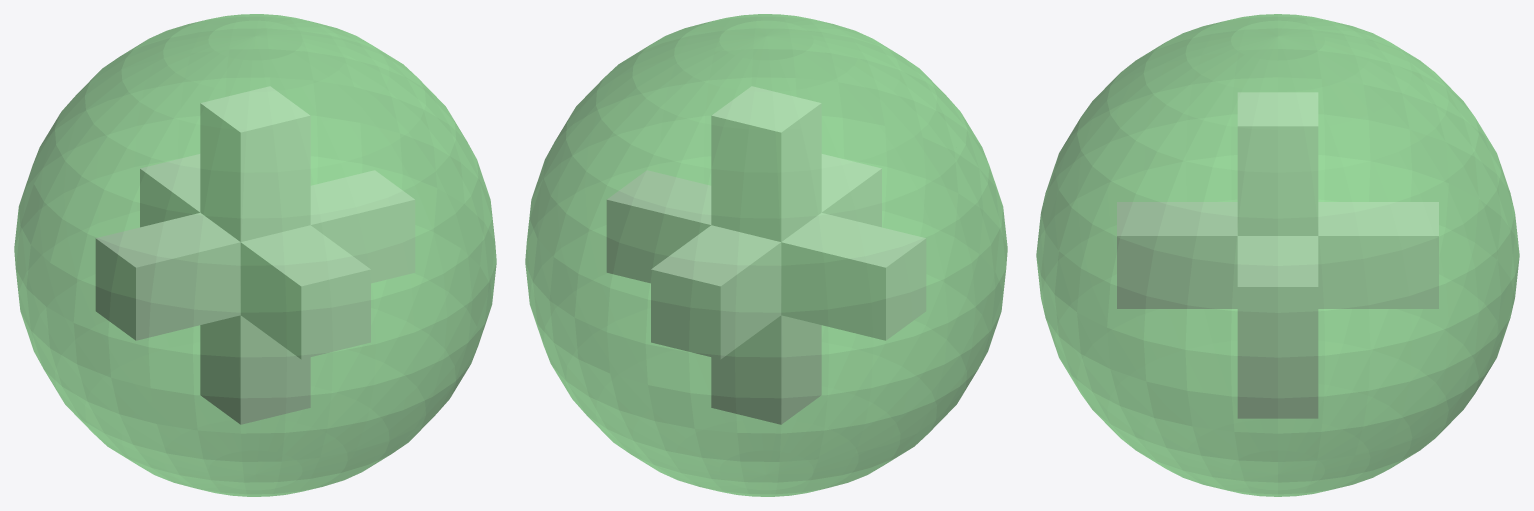
The model's file is healthpickup.fbx.
The picture shows the model from 3 angles, left to right: view 1: azimuth 30°, elevation 25°; view 2: azimuth 150°, elevation 25°; view 3: azimuth 270°, elevation 25°; orthographic projection.
Parts seen in each view (by area): view 1: Sphere, Plus; view 2: Sphere, Plus; view 3: Sphere, Plus.
Part boxes in pixels (<box>): Sphere: <box>14,14,496,496</box>; Plus: <box>95,86,415,424</box>; Sphere: <box>525,14,1007,496</box>; Plus: <box>606,86,926,424</box>; Sphere: <box>1036,14,1519,496</box>; Plus: <box>1117,92,1438,418</box>.
Size of the model in its own units: 300 by 300 by 300.
